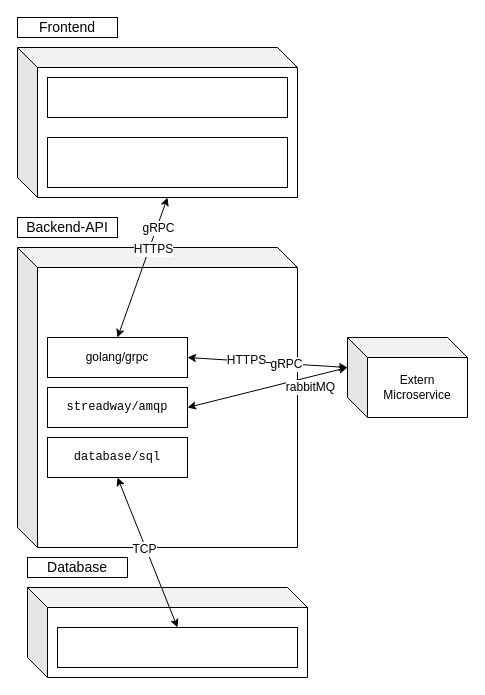
Some shapes in this 485 by 695 pixel diagram are drawn without their labels. Here are the shapes that lost their labels. From the top down, the centre of each, then its label:
At [167,97]: "Vue.js App".
At [167,162]: "ngnix".
At [177,647]: "PostgreSQL".
